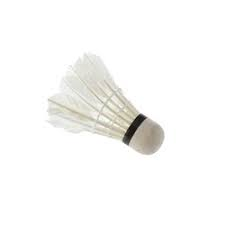shuttle: (35, 51, 170, 161)
